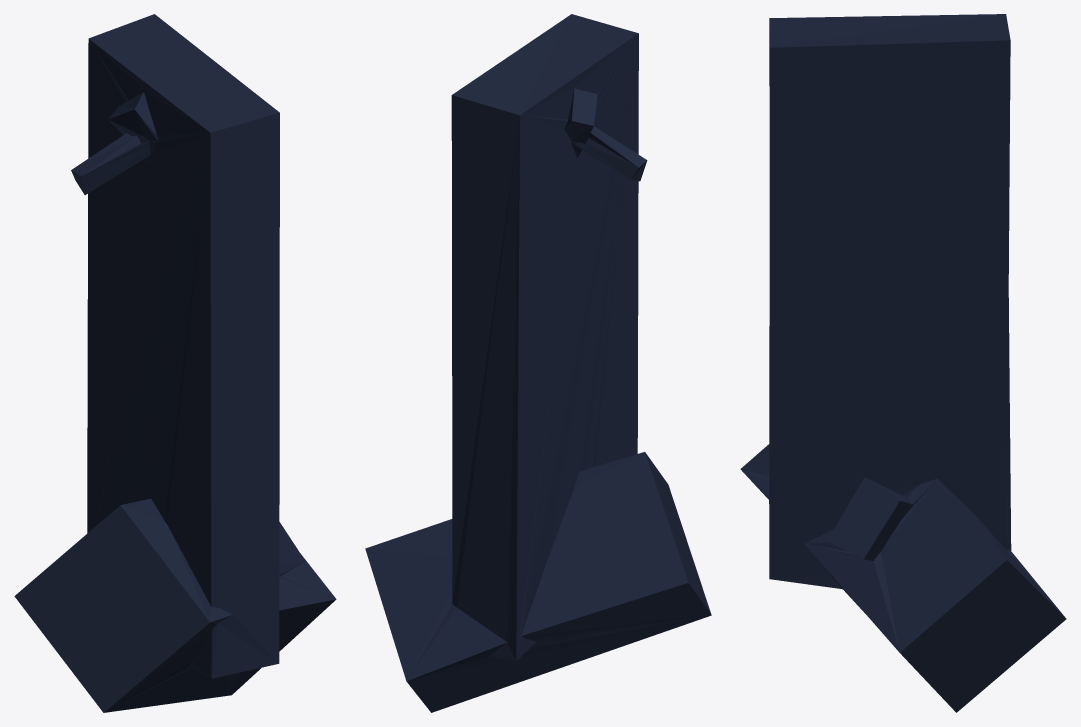
3 views of the same model, side by side, from view 1: azimuth 30°, elevation 25°; view 2: azimuth 150°, elevation 25°; view 3: azimuth 270°, elevation 25° (orthographic). The views are drawn at different scales.
Parts seen in each view (by area): view 1: 312_Cube.1276; view 2: 312_Cube.1276; view 3: 312_Cube.1276.
Part boxes in pixels (x1,y1,x2,y2): 312_Cube.1276: [14, 14, 336, 712]; 312_Cube.1276: [365, 14, 711, 712]; 312_Cube.1276: [740, 14, 1066, 712].
Size of the model in its own units: 7.09 by 14.35 by 6.54.
